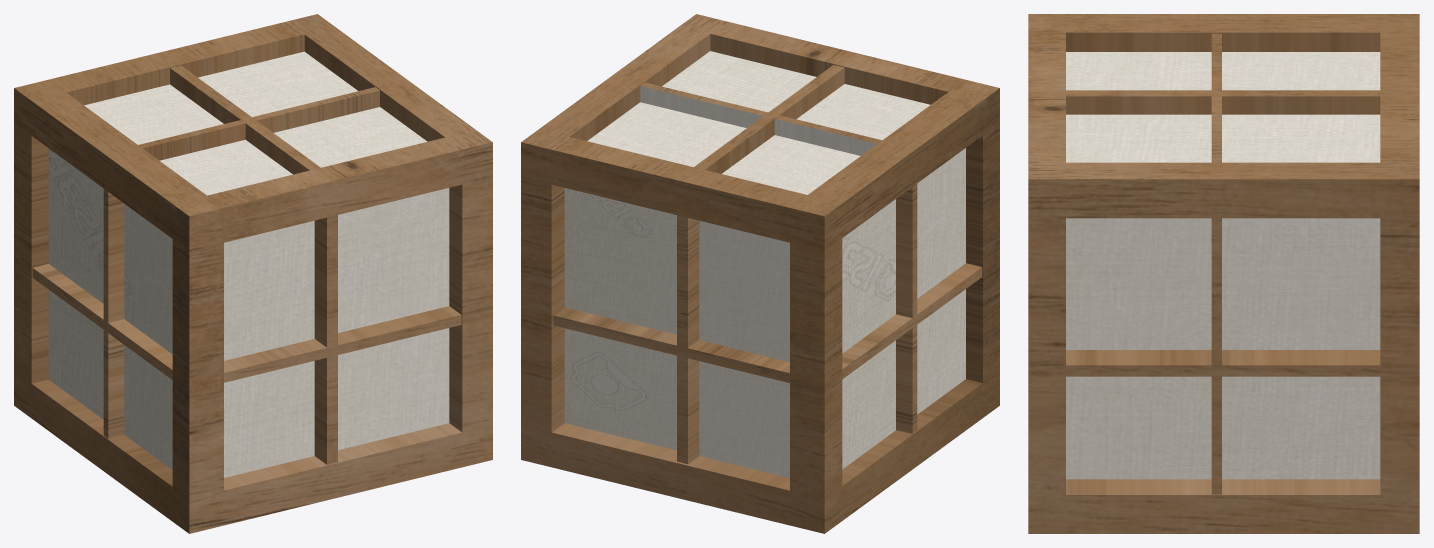
Rendered from caixa.glb.
3 renders of one model, left to right at view 1: azimuth 30°, elevation 25°; view 2: azimuth 150°, elevation 25°; view 3: azimuth 270°, elevation 25°, orthographic. The views are drawn at different scales.
Visible parts, largest first — view 1: Cube; view 2: Cube; view 3: Cube.
Boxes of the visible parts, x1,y1,x2,y2 form: Cube: (14, 14, 492, 533); Cube: (521, 14, 999, 533); Cube: (1028, 14, 1419, 533).
Bounding box in the file's own units: 2 × 2 × 2.
2 materials, 2 textured.
